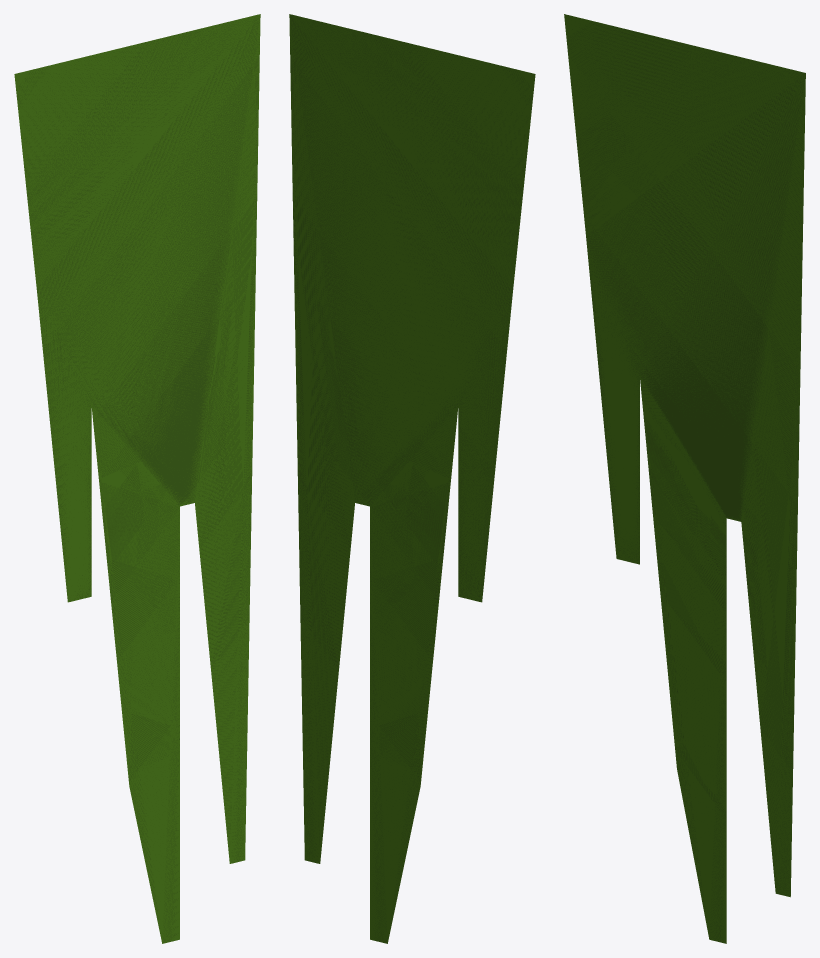
The model's file is Vegetation_Moss_Hanging_04.fbx.
3 views of the same model, side by side, from view 1: azimuth 30°, elevation 25°; view 2: azimuth 150°, elevation 25°; view 3: azimuth 330°, elevation 25° (orthographic).
Parts seen in each view (by area): view 1: Vegetation_Moss_Hanging_04; view 2: Vegetation_Moss_Hanging_04; view 3: Vegetation_Moss_Hanging_04.
Boxes of the visible parts, <box> form: Vegetation_Moss_Hanging_04: <box>14,14,260,943</box>; Vegetation_Moss_Hanging_04: <box>289,14,535,943</box>; Vegetation_Moss_Hanging_04: <box>564,14,805,943</box>.
Size of the model in its own units: 707 by 2485 by 0.00151.
